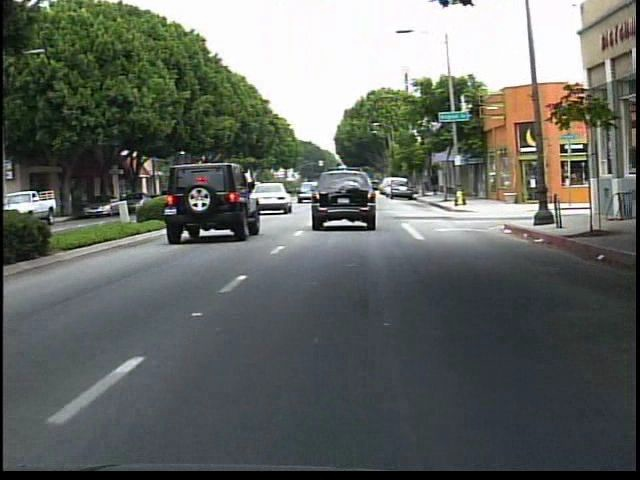person: (426, 165, 446, 202)
